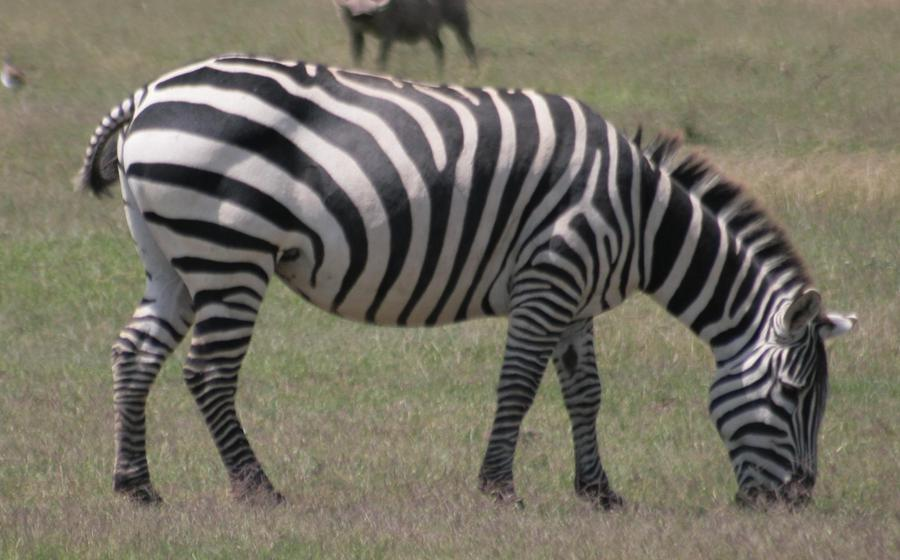zebra_plains: (142, 56, 645, 320)
